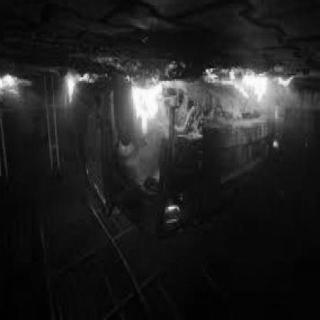Fire: (198, 63, 300, 143), (64, 60, 90, 116)
